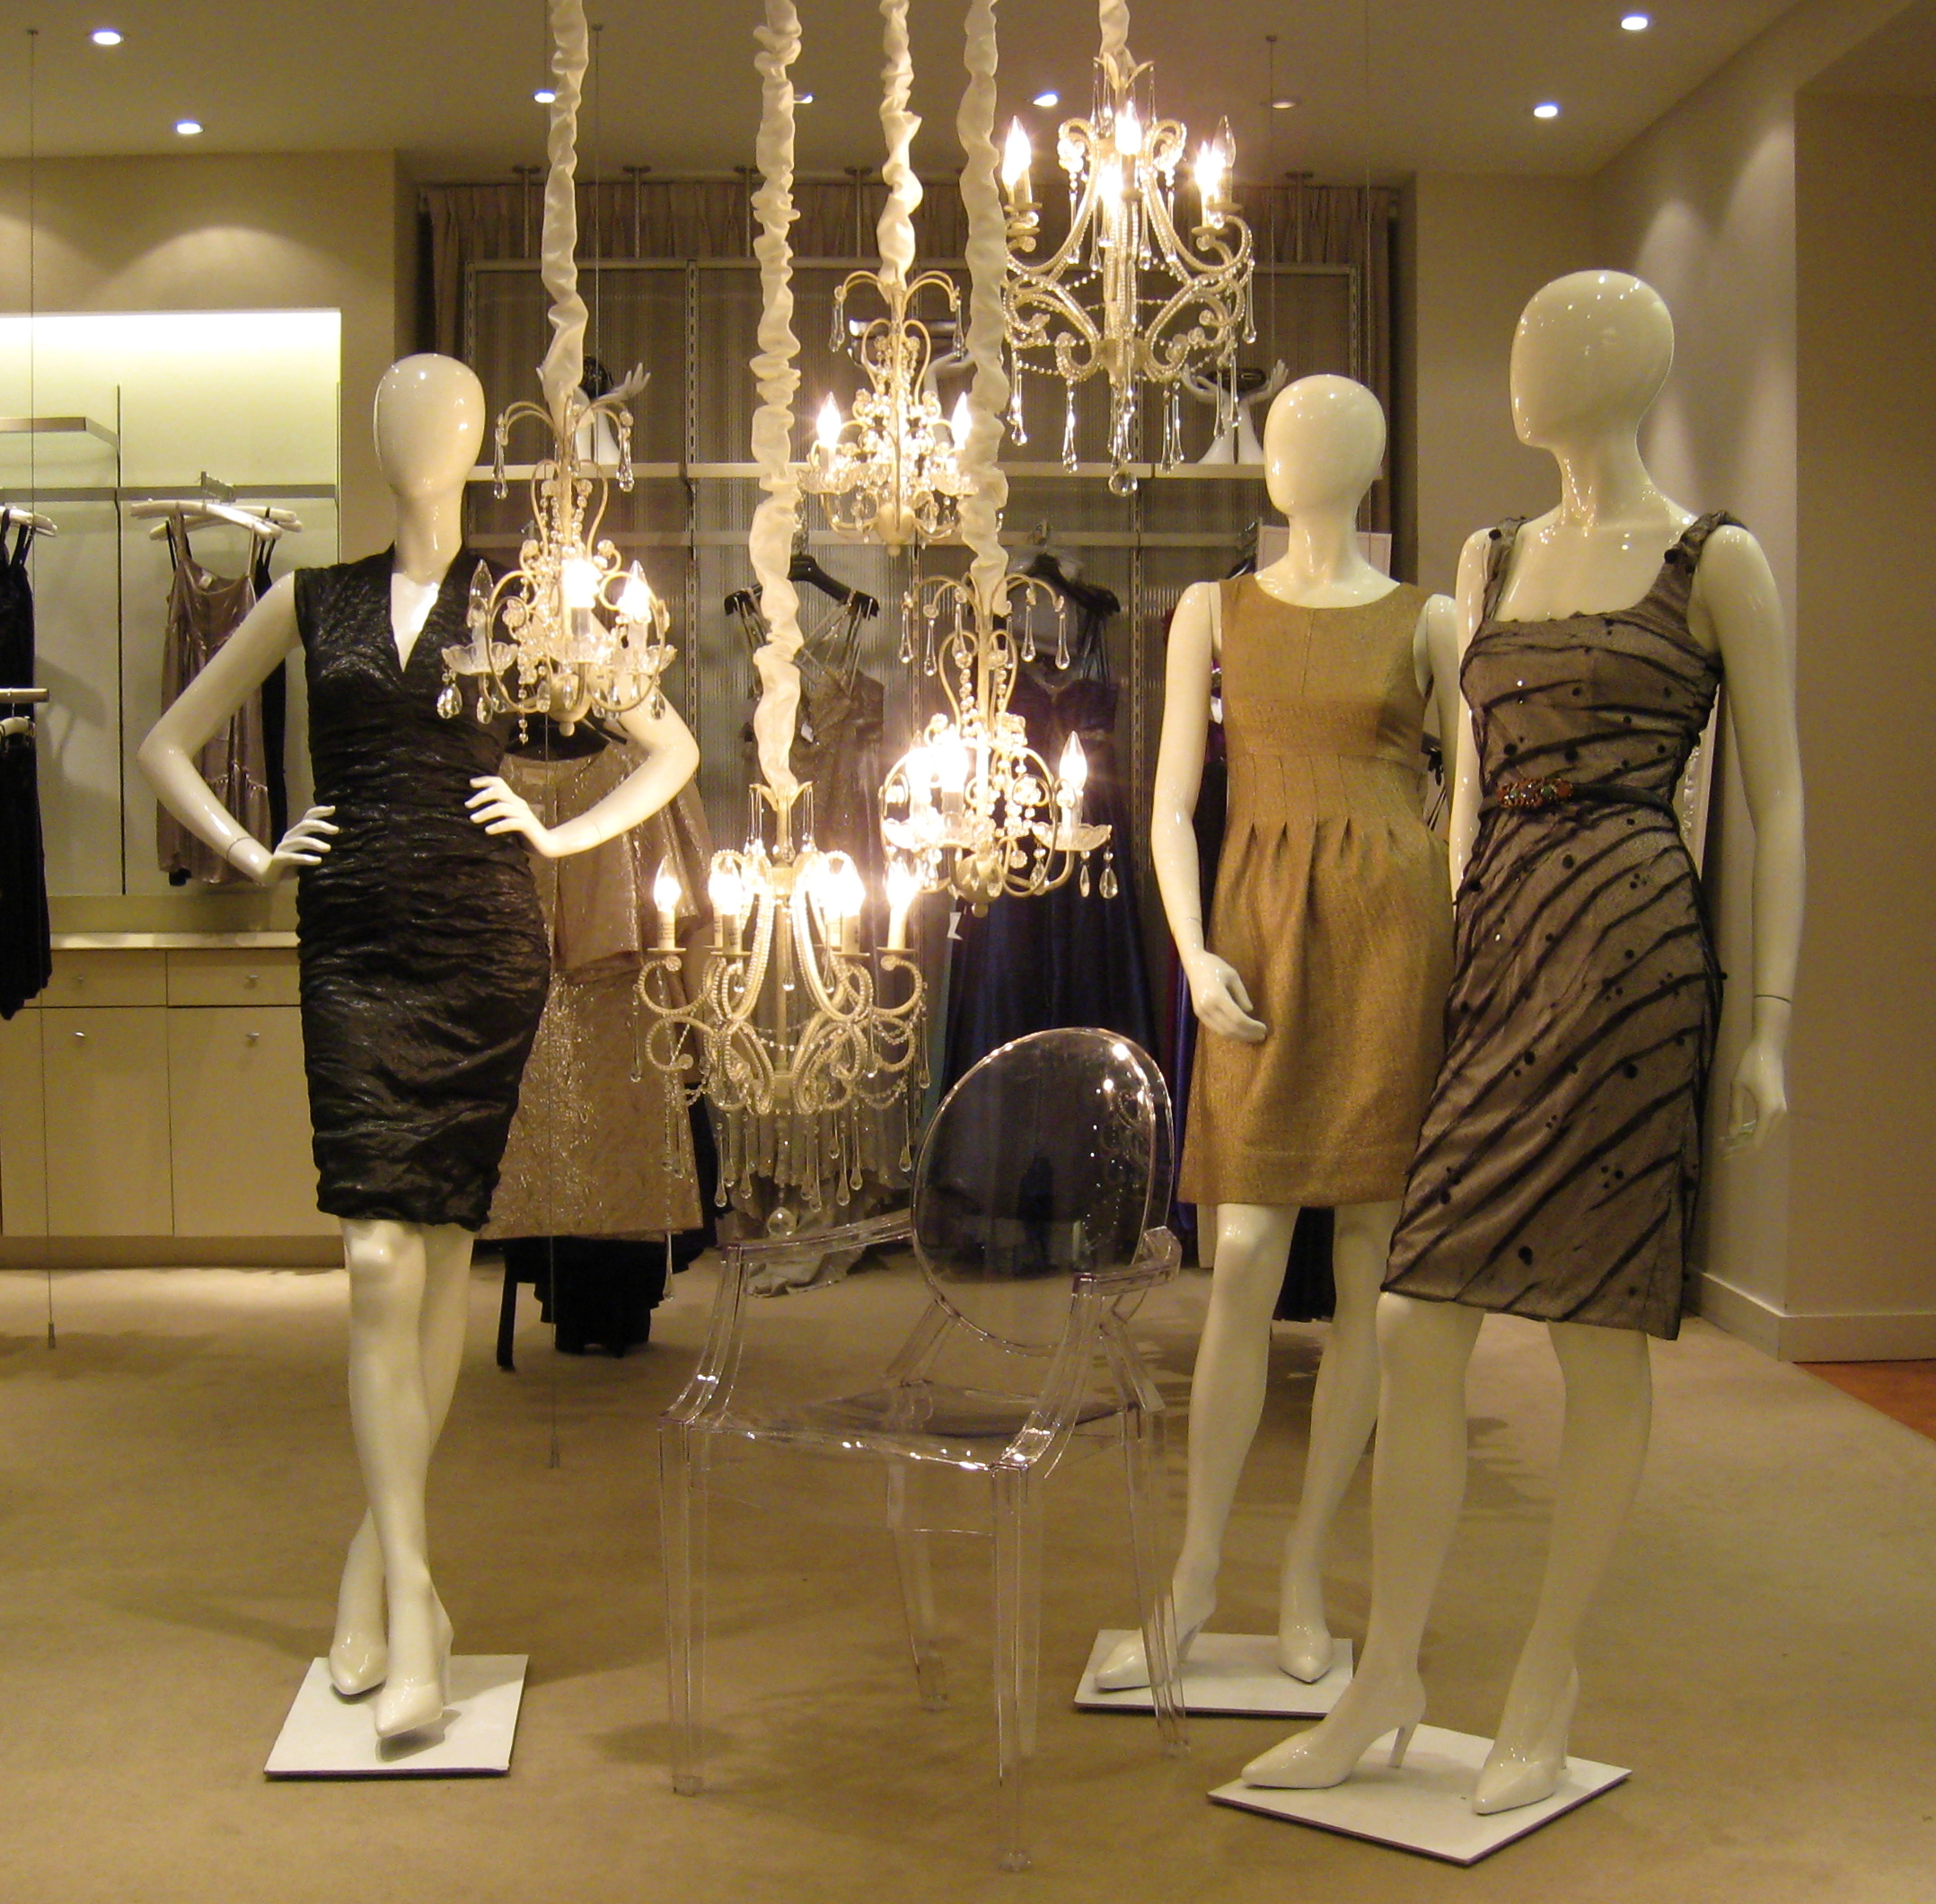person-like: (1219, 249, 1819, 1829), (130, 340, 711, 1759), (1077, 357, 1475, 1708)
